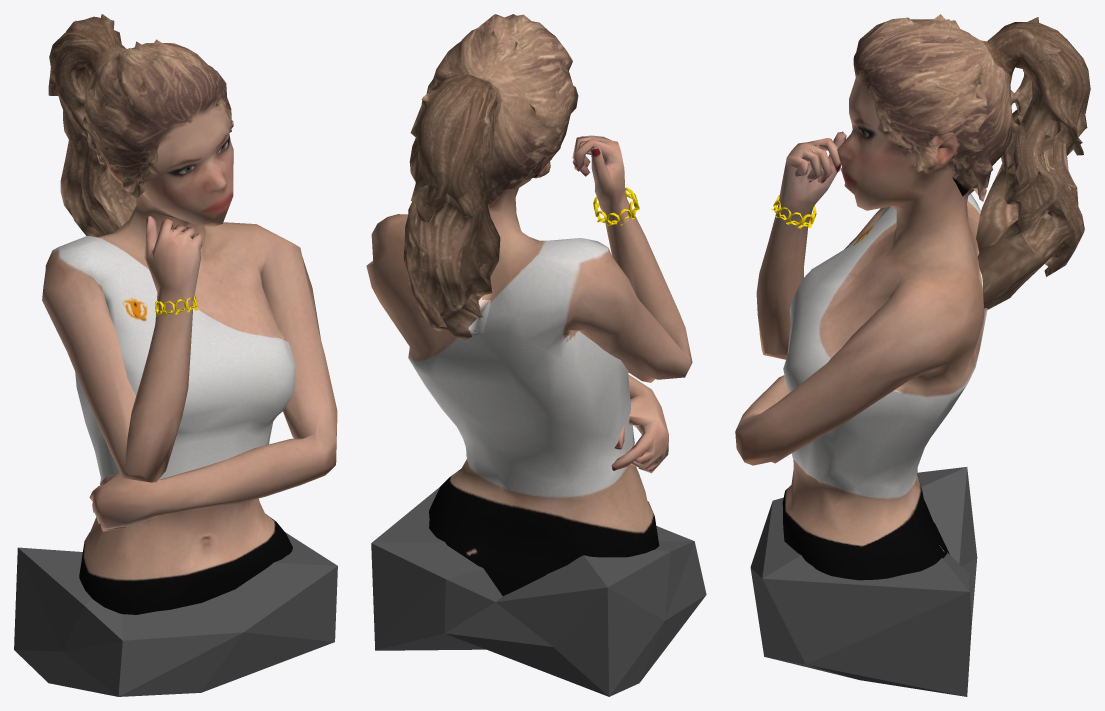
3 views of the same model, side by side, from view 1: azimuth 30°, elevation 25°; view 2: azimuth 150°, elevation 25°; view 3: azimuth 270°, elevation 25° (orthographic). The views are drawn at different scales.
Parts seen in each view (by area): view 1: Null-remesh_7_combined_Bake, Cube; view 2: Null-remesh_7_combined_Bake, Cube, Null-Mat; view 3: Null-remesh_7_combined_Bake, Cube.
Boxes of the visible parts, x1=… form: Null-remesh_7_combined_Bake: x1=42, y1=14, x2=337, y2=614; Cube: x1=14, y1=532, x2=337, y2=696; Null-remesh_7_combined_Bake: x1=366, y1=14, x2=692, y2=595; Cube: x1=371, y1=487, x2=706, y2=696; Null-Mat: x1=593, y1=187, x2=639, y2=226; Null-remesh_7_combined_Bake: x1=735, y1=14, x2=1090, y2=580; Cube: x1=750, y1=467, x2=977, y2=696.
Size of the model in its own units: 41.15 by 91.4 by 47.11.
Materials: 5 (1 with a texture image).
